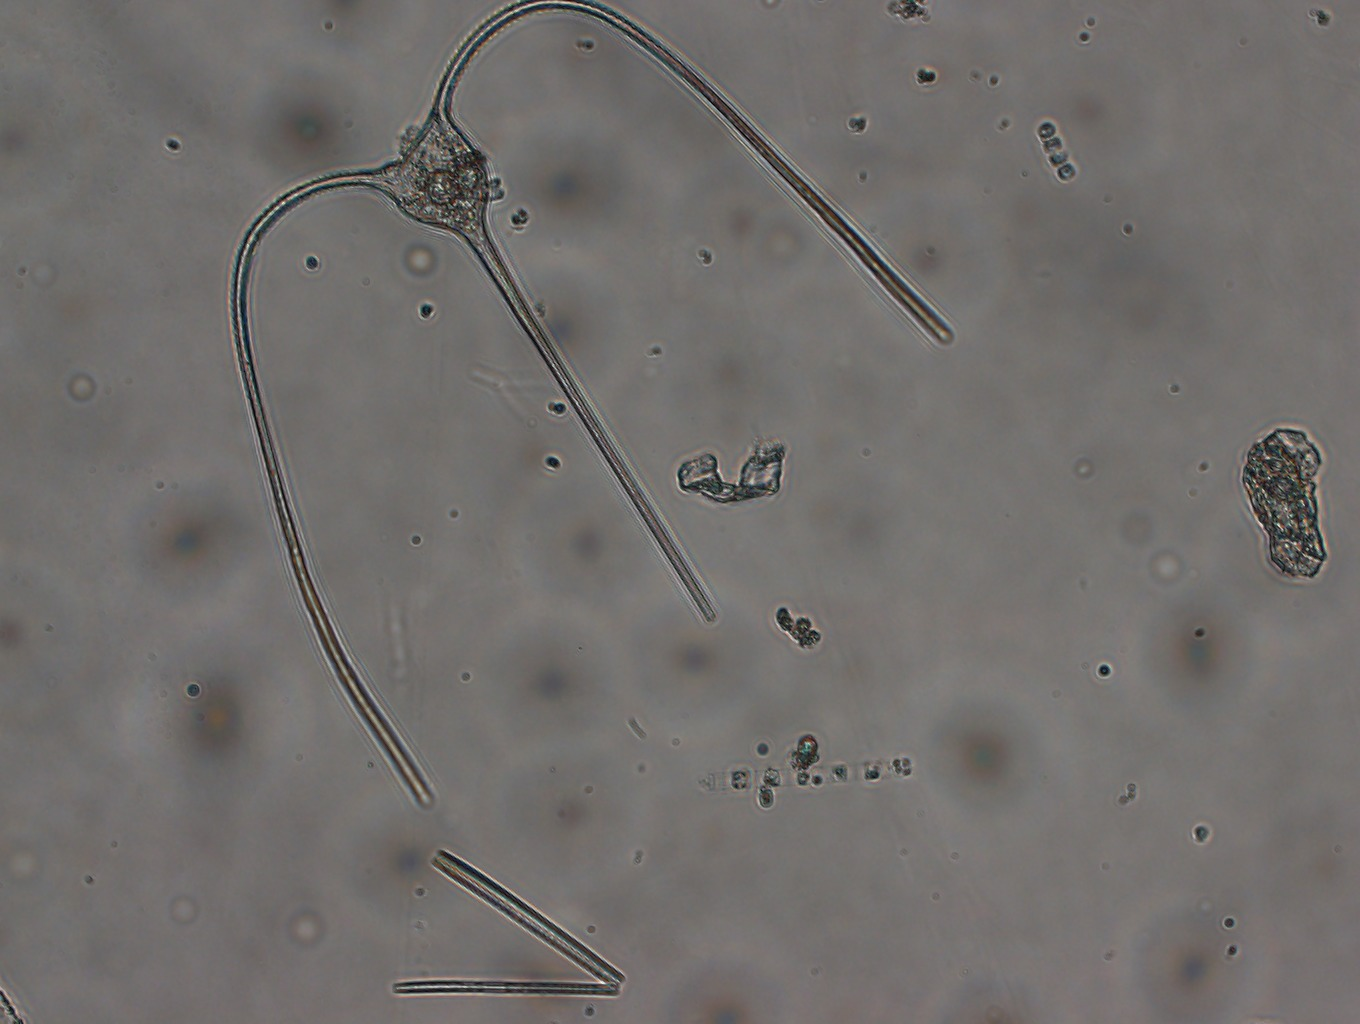ceratium trichoceros: (215, 1, 956, 809)
skeletonema: (693, 733, 915, 807), (1034, 110, 1082, 191)
thalassionema frauenfeldii: (381, 844, 635, 1005)
